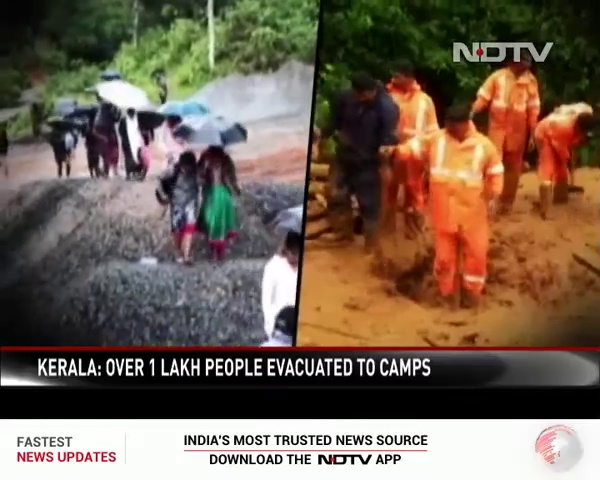person: (382, 112, 506, 307), (476, 60, 540, 212), (332, 80, 396, 231), (386, 69, 433, 234), (537, 102, 597, 224), (198, 145, 245, 263), (164, 148, 200, 267), (275, 232, 302, 313), (121, 109, 151, 180), (95, 105, 124, 178), (44, 124, 79, 178), (82, 113, 97, 177), (154, 72, 168, 104)
